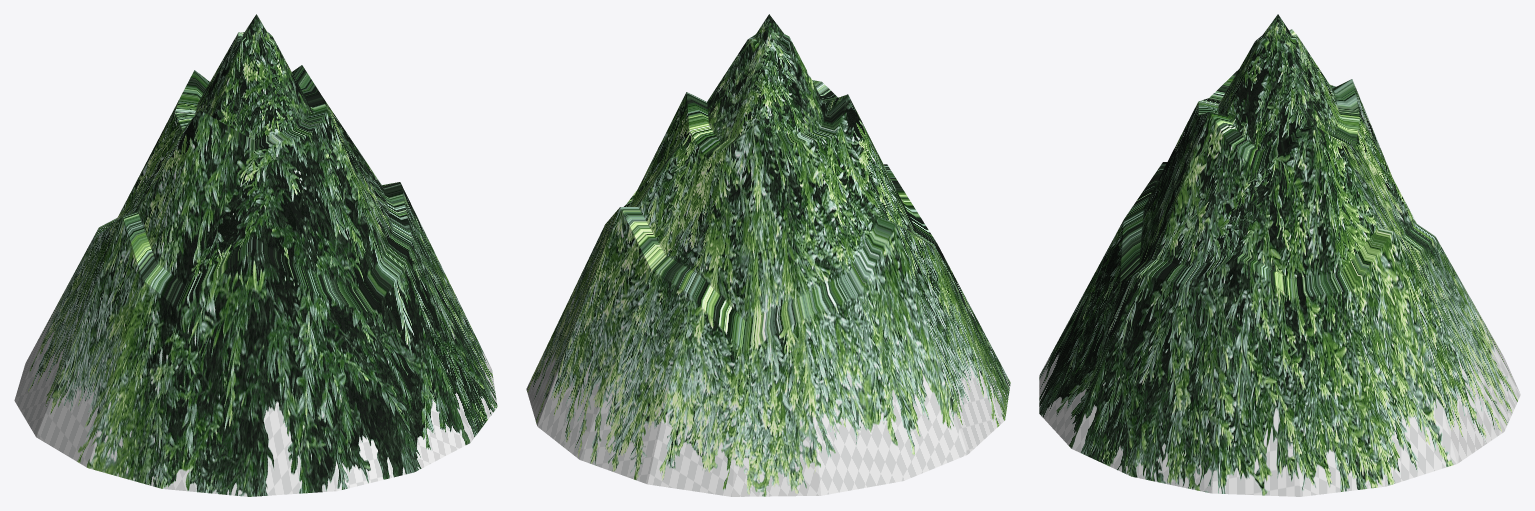
The model's file is muntanyea_1.fbx.
The picture shows the model from 3 angles, left to right: view 1: azimuth 30°, elevation 25°; view 2: azimuth 150°, elevation 25°; view 3: azimuth 270°, elevation 25°; orthographic projection.
Visible parts, largest first — view 1: Cone; view 2: Cone; view 3: Cone.
Boxes of the visible parts, box(x1,y1,x2,y2) form: Cone: box(14, 14, 497, 496); Cone: box(526, 14, 1010, 496); Cone: box(1039, 14, 1520, 496).
Size of the model in its own units: 1071 by 930 by 1066.
